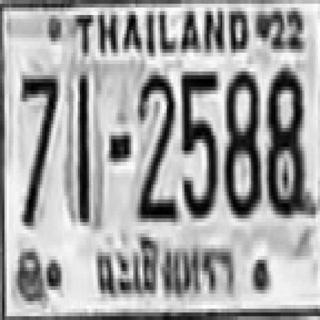N01: (73, 70, 89, 220), (76, 72, 89, 222), (77, 74, 90, 224)
N02: (137, 70, 174, 216)
N05: (180, 68, 215, 215)
N07: (20, 72, 58, 222), (21, 72, 57, 188)
N08: (264, 64, 309, 215), (222, 68, 258, 215)
P07: (89, 230, 241, 300)
